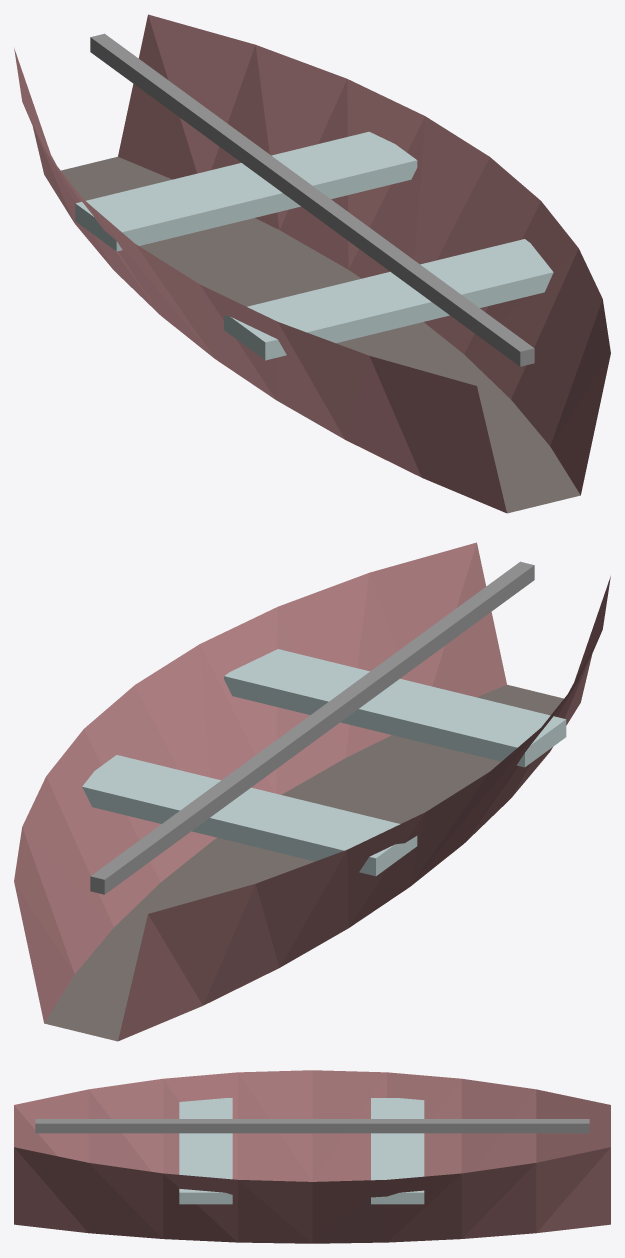
The model's file is boat.glb.
3 views of the same model, one above another, from view 1: azimuth 30°, elevation 25°; view 2: azimuth 150°, elevation 25°; view 3: azimuth 270°, elevation 25° (orthographic). The views are drawn at different scales.
Parts seen in each view (by area): view 1: boat; view 2: boat; view 3: boat.
Boxes of the visible parts, bbox=[...] form: boat: bbox=[14, 14, 610, 513]; boat: bbox=[14, 542, 610, 1041]; boat: bbox=[14, 1070, 610, 1243].
Size of the model in its own units: 1.24 by 0.475 by 2.8.
